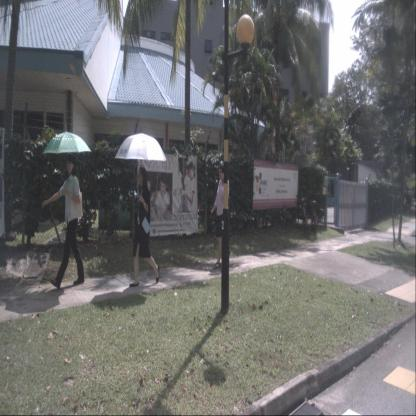human-pedestrian-adult: (41, 153, 85, 289), (128, 166, 160, 288), (210, 160, 231, 269)
vehicle-bicycle: (296, 192, 311, 240), (307, 193, 318, 238)
